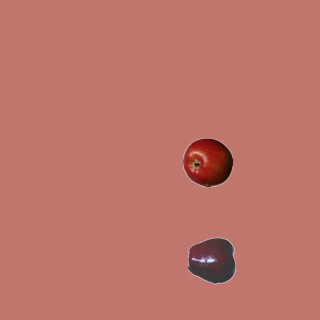Apple Braeburn: (182, 137, 232, 187)
Apple Red Delicious: (187, 235, 237, 285)
